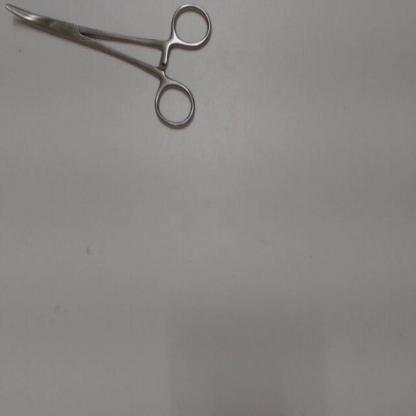Crile Artery Forceps: (0, 0, 215, 137)
